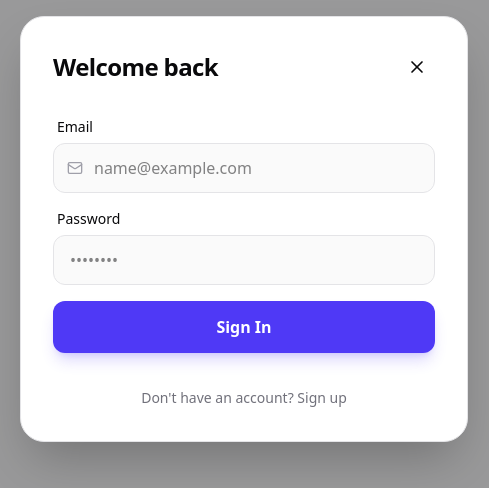
it: AuthModal › switches between login and signup mode
This screenshot has width=489, height=488.
Expected: the heading "Welcome back" is shown, [53,51,218,83]
Click the button "Don't have an account? Sign up" at (244, 398), box [141,388,347,408]
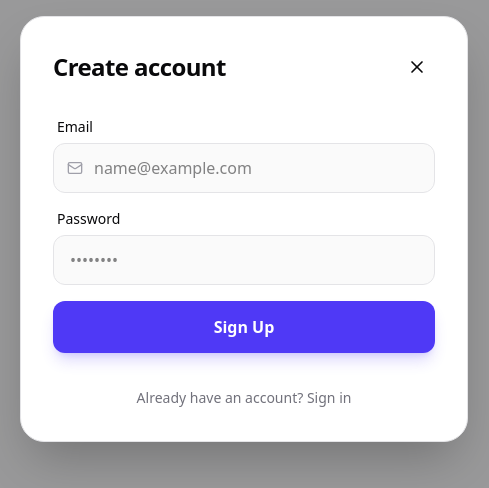
Expected: the heading "Create account" is shown, [53,51,226,83]
Expected: the text "Sign Up" is shown, [214,315,274,339]
Click the button "Already have an account? Sign in" at (244, 398), box [137,388,351,408]
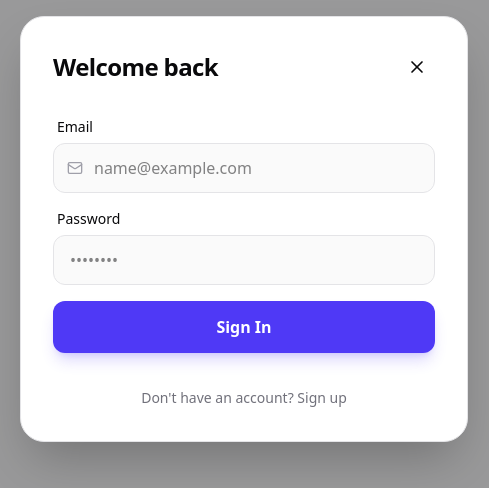
Expected: the heading "Welcome back" is shown, [53,51,218,83]
